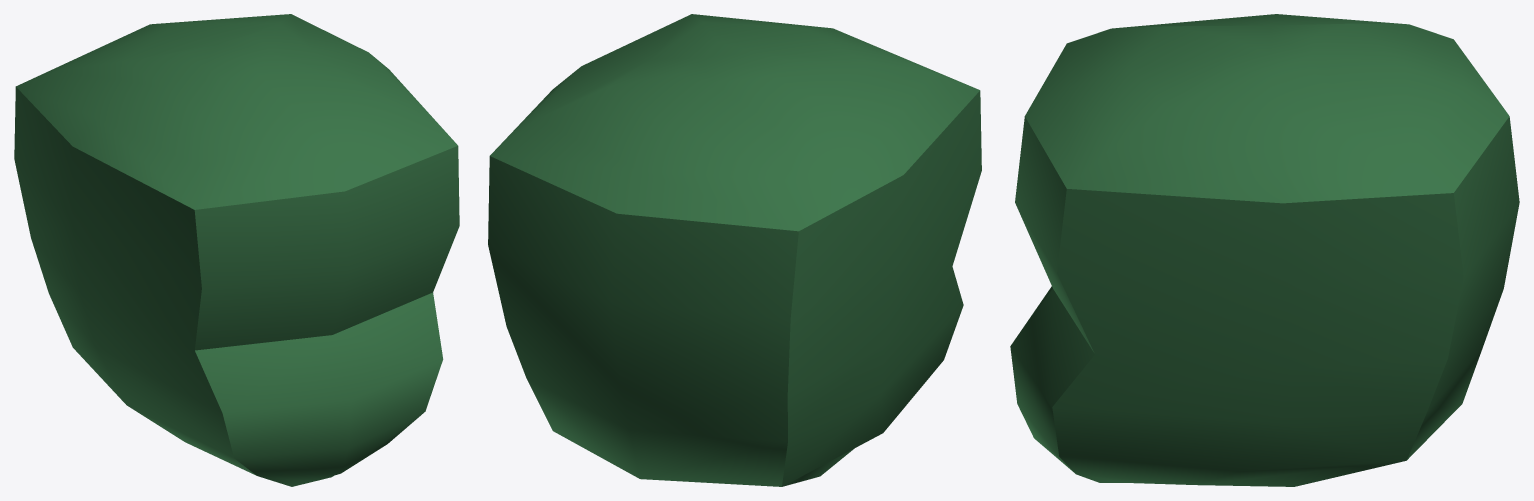
File: Skeleton_Head.fbx
3 views of the same model, side by side, from view 1: azimuth 30°, elevation 25°; view 2: azimuth 150°, elevation 25°; view 3: azimuth 270°, elevation 25° (orthographic). The views are drawn at different scales.
Visible parts, largest first — view 1: Head; view 2: Head; view 3: Head.
Boxes of the visible parts, x1=… form: Head: x1=14, y1=14, x2=459, y2=486; Head: x1=488, y1=14, x2=981, y2=486; Head: x1=1010, y1=14, x2=1519, y2=486.
Bounding box in the file's own units: 36.98 × 41.24 × 45.63.
